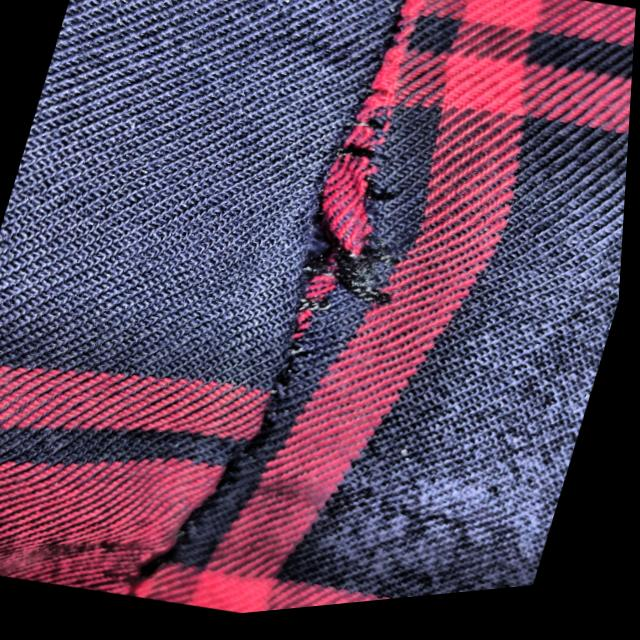seam: (148, 37, 486, 442)
